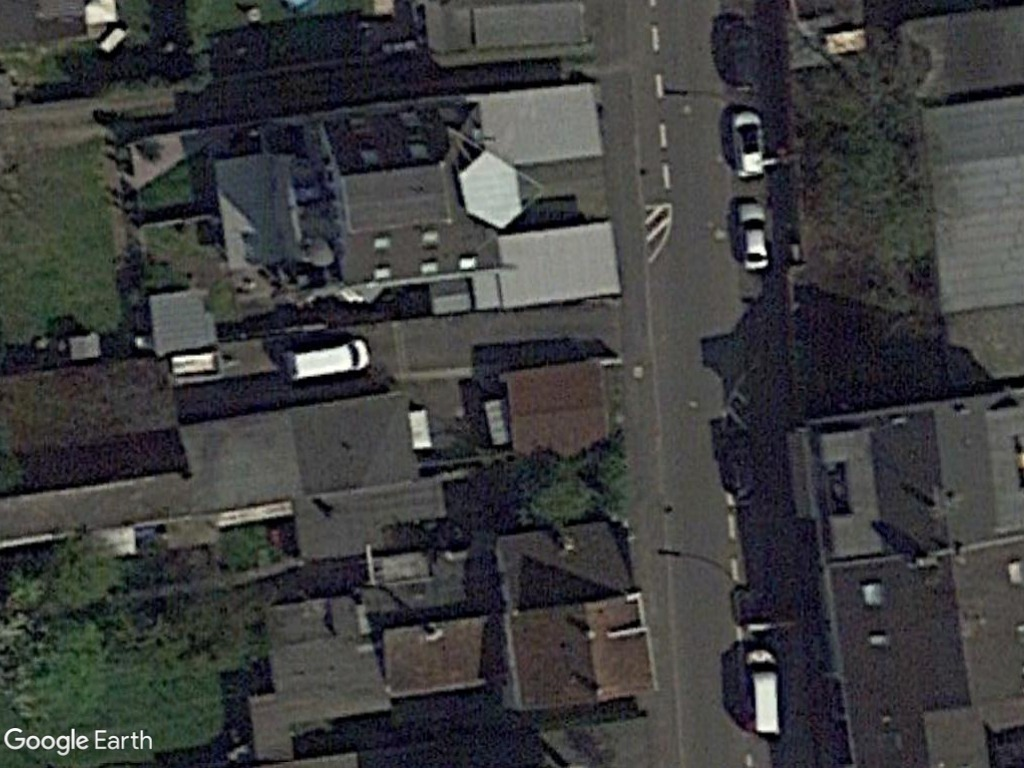car: (728, 193, 775, 274)
van: (277, 333, 376, 386), (735, 640, 784, 741)
